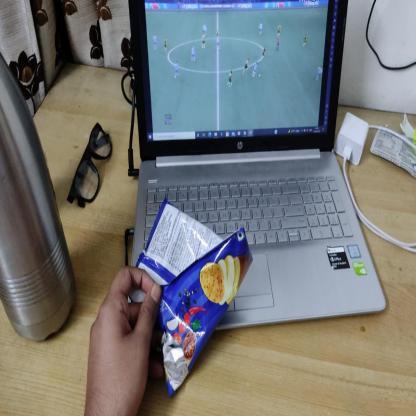indian_magic_masala: (136, 201, 251, 395)
